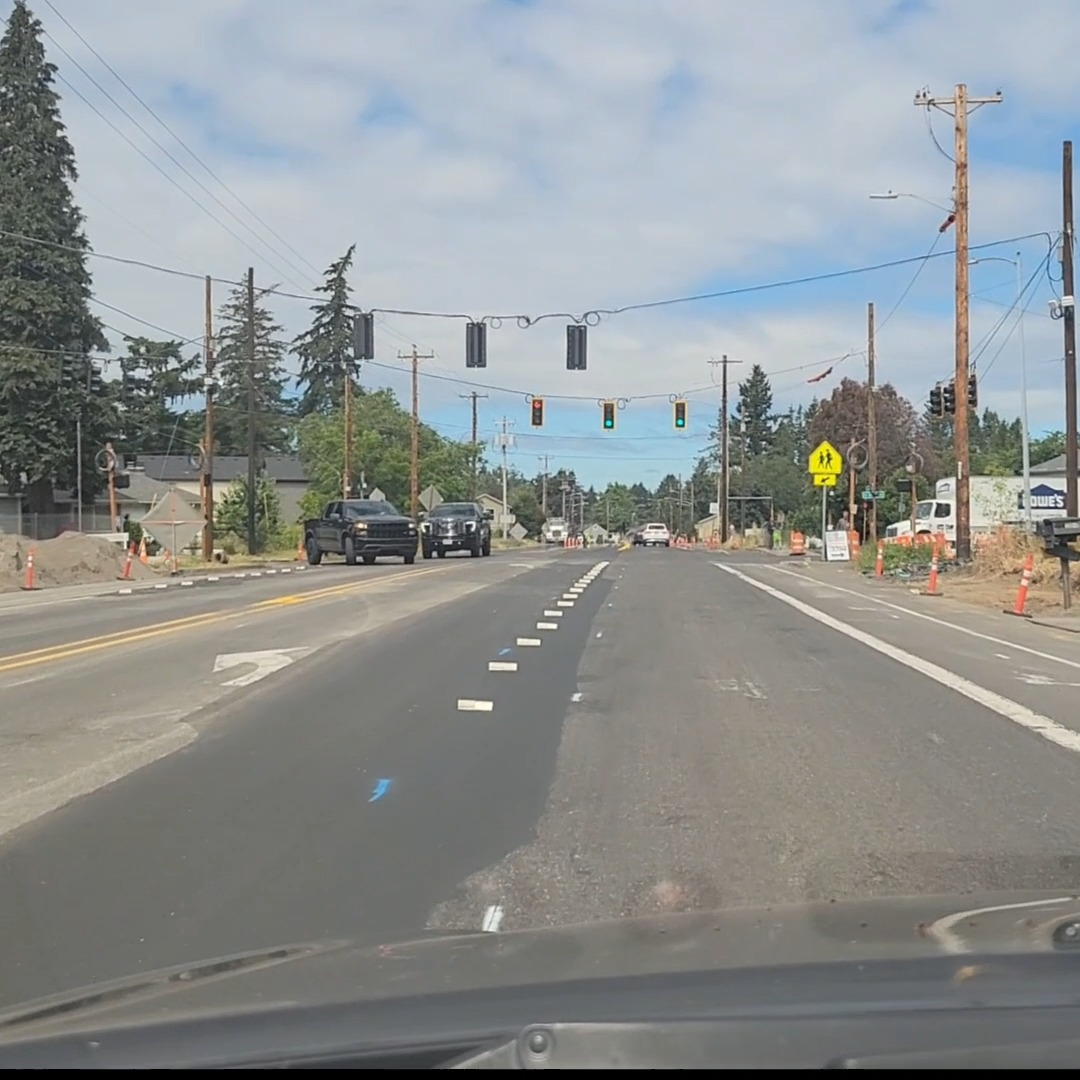car: (302, 499, 419, 565), (417, 501, 494, 559), (632, 522, 670, 546), (541, 517, 569, 545)
crosswalk-sign: (807, 439, 842, 483)
delineator: (1006, 557, 1034, 616), (913, 533, 939, 593), (19, 546, 43, 590), (119, 542, 136, 579), (931, 529, 944, 560), (295, 531, 306, 561), (875, 541, 884, 576), (138, 536, 148, 562), (710, 535, 718, 548)
